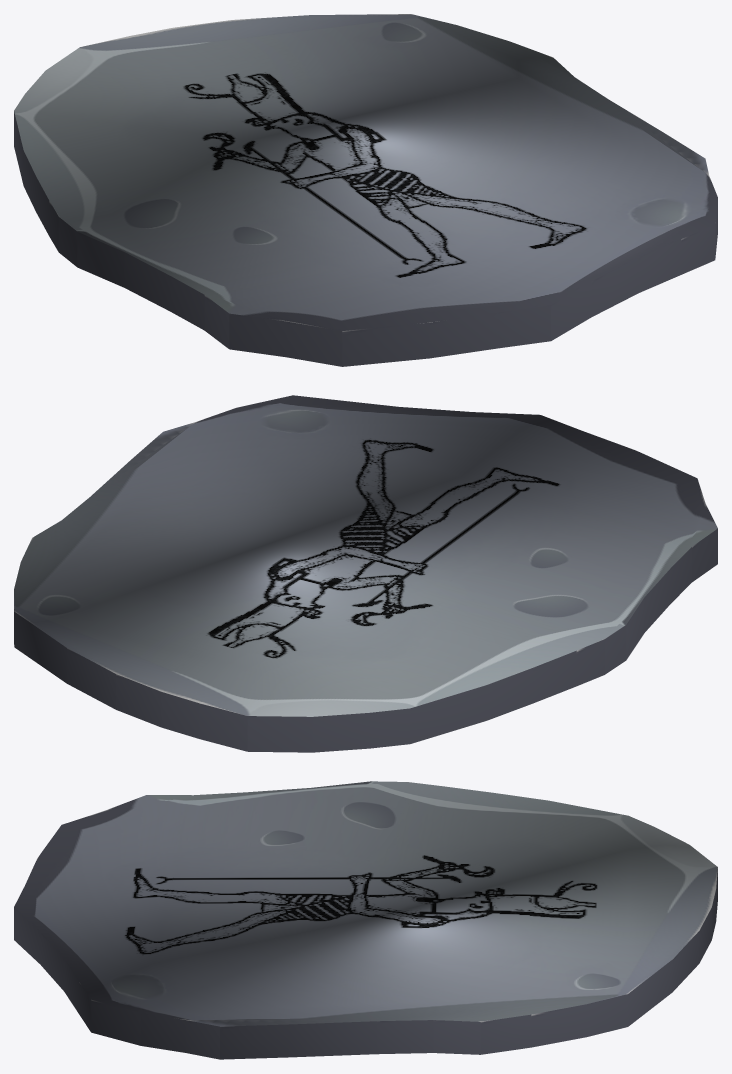
File: runeHorus.glb
3 renders of one model, top to bottom at view 1: azimuth 30°, elevation 25°; view 2: azimuth 150°, elevation 25°; view 3: azimuth 270°, elevation 25°, orthographic. The views are drawn at different scales.
Parts seen in each view (by area): view 1: rune; view 2: rune; view 3: rune.
Boxes of the visible parts, left/top/right/bottom form: rune: left=14, top=14, right=717, bottom=366; rune: left=14, top=395, right=717, bottom=752; rune: left=14, top=781, right=717, bottom=1059.
Size of the model in its own units: 0.8115 by 0.0509 by 0.9844.
1 material, 1 textured.
